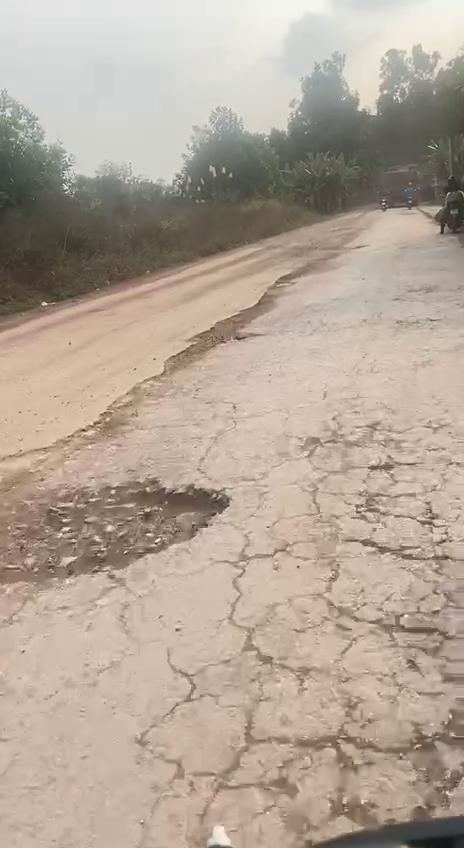pothole: (257, 704, 464, 848), (0, 482, 244, 590), (163, 296, 274, 376)
